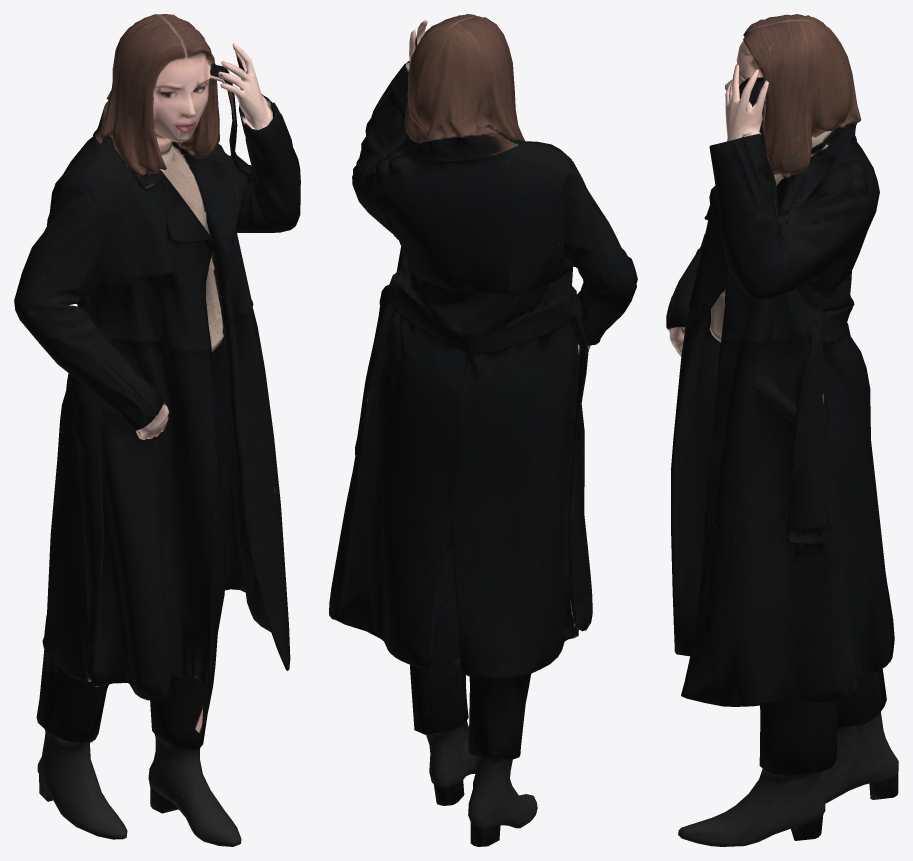
The model's file is gcc-woman-2-near.glb.
The picture shows the model from 3 angles, left to right: view 1: azimuth 30°, elevation 25°; view 2: azimuth 150°, elevation 25°; view 3: azimuth 270°, elevation 25°; orthographic projection. The views are drawn at different scales.
Parts seen in each view (by area): view 1: Mesh_0; view 2: Mesh_0; view 3: Mesh_0.
Boxes of the visible parts, left/top/right/bottom form: Mesh_0: left=14, top=14, right=300, bottom=846; Mesh_0: left=329, top=14, right=637, bottom=846; Mesh_0: left=666, top=14, right=898, bottom=846.
Size of the model in its own units: 0.6998 by 1.9 by 0.4914.
1 material, 1 textured.
